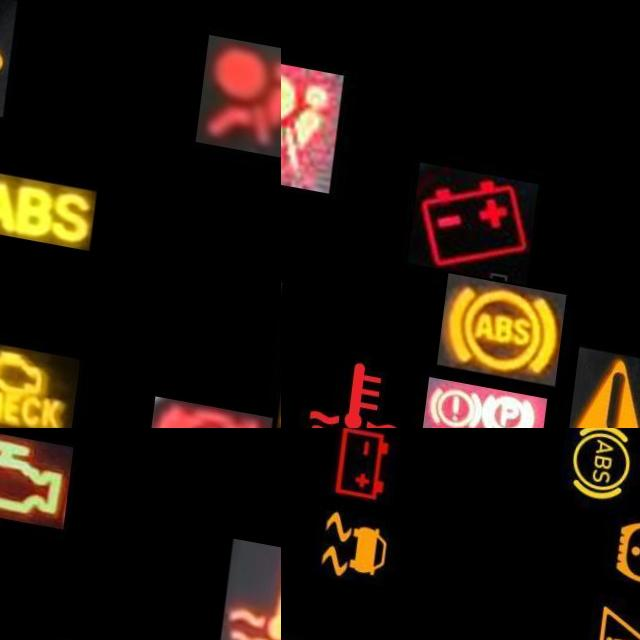Central Warning lamp: (574, 328, 640, 428)
Engine cooling system: (300, 325, 430, 428), (225, 525, 281, 640)
